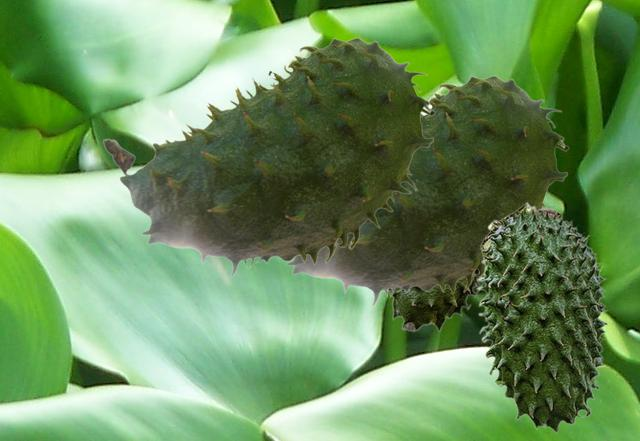guyabano: (102, 37, 434, 277), (285, 75, 568, 306), (476, 201, 608, 432), (389, 270, 483, 331)
